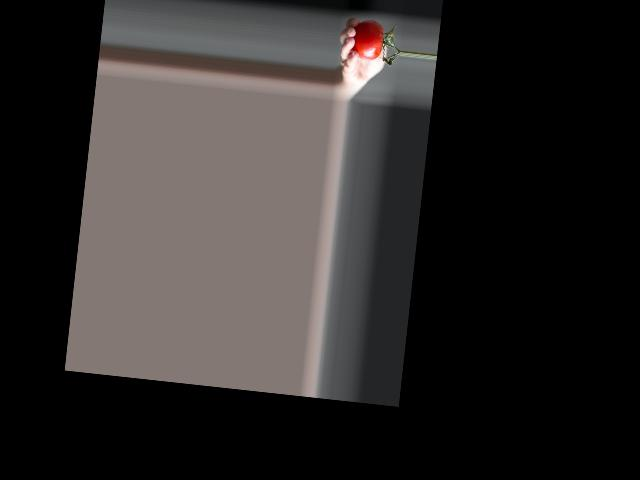tomato: (350, 18, 386, 61)
